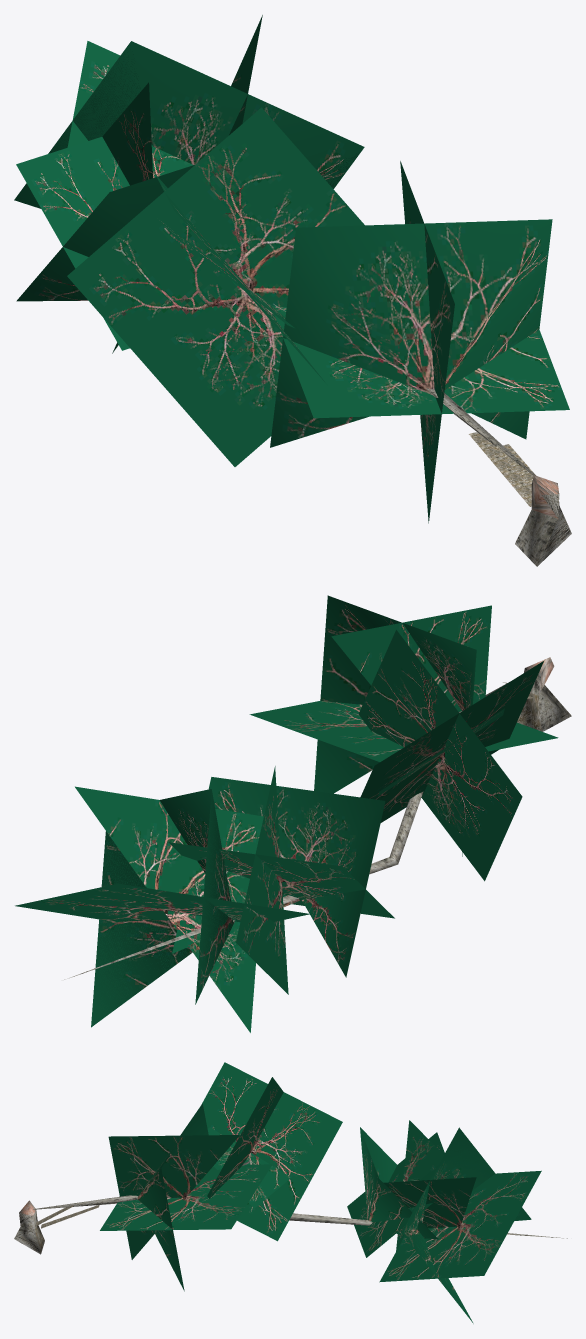
File: decd_whitebirchfallen_l2.fbx
The picture shows the model from 3 angles, top to bottom: view 1: azimuth 30°, elevation 25°; view 2: azimuth 150°, elevation 25°; view 3: azimuth 270°, elevation 25°; orthographic projection. The views are drawn at different scales.
Visible parts, largest first — view 1: mesh_node; view 2: mesh_node; view 3: mesh_node.
Boxes of the visible parts, x1,y1,x2,y2 form: mesh_node: [14, 15, 571, 566]; mesh_node: [15, 595, 571, 1032]; mesh_node: [14, 1062, 567, 1323].
Bounding box in the file's own units: 4.71 × 3.97 × 9.92.
